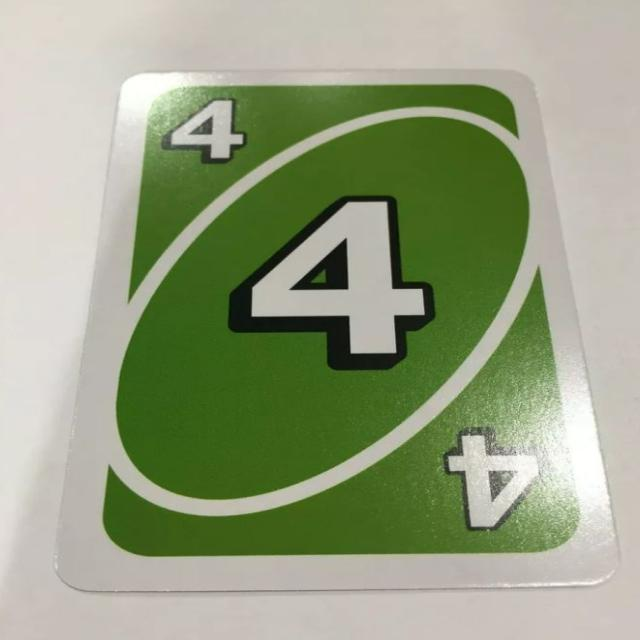Green_Card: (95, 78, 589, 560)
Number_4: (157, 88, 256, 166)
